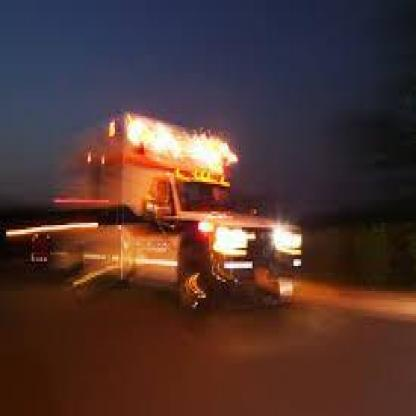other: (126, 104, 240, 198), (212, 218, 250, 262), (271, 223, 303, 257)
